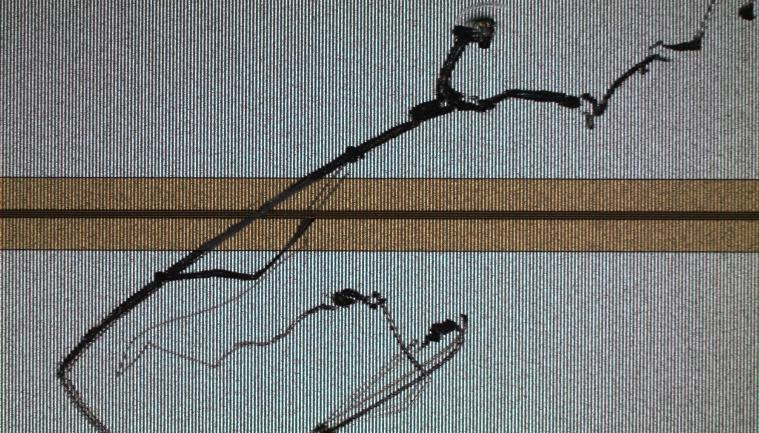SCRATCH: (50, 1, 759, 433)
